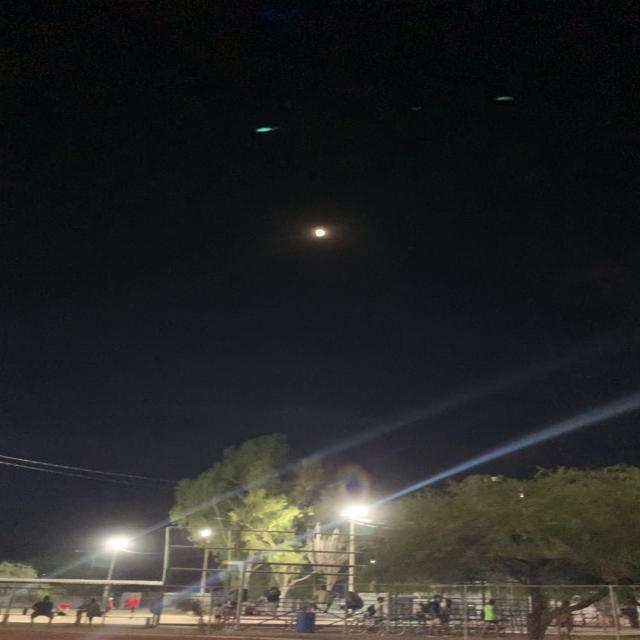moon: (313, 219, 333, 246)
